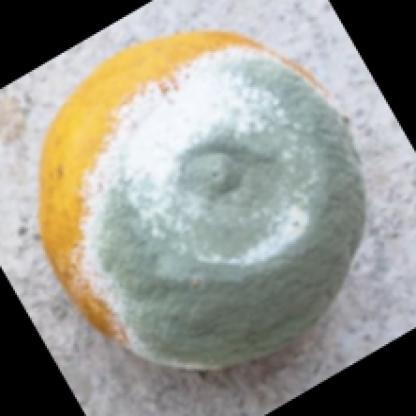rotten: (41, 31, 364, 371)
